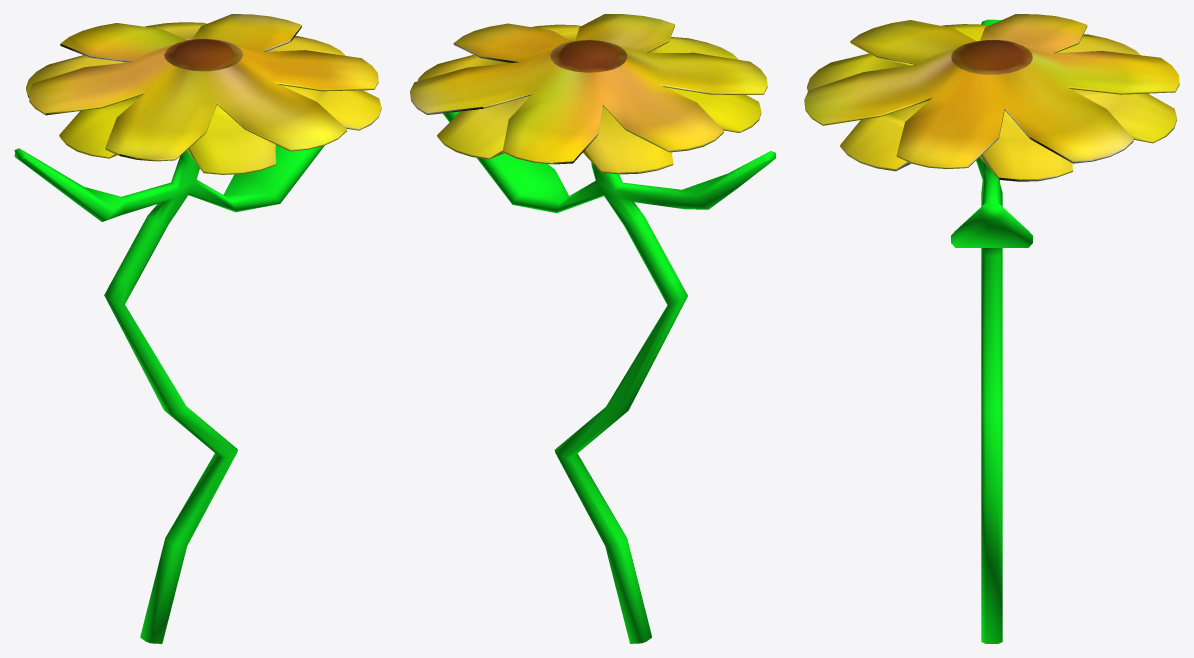
The model's file is Sunflower Moving (2).fbx.
3 renders of one model, left to right at view 1: azimuth 30°, elevation 25°; view 2: azimuth 150°, elevation 25°; view 3: azimuth 270°, elevation 25°, orthographic. The views are drawn at different scales.
Parts seen in each view (by area): view 1: Circle.001, Cube; view 2: Circle.001, Cube; view 3: Circle.001, Cube.
Part boxes in pixels (<box>): Circle.001: <box>26,14,381,174</box>; Cube: <box>14,145,324,643</box>; Circle.001: <box>410,14,767,174</box>; Cube: <box>443,111,775,643</box>; Circle.001: <box>804,14,1179,181</box>; Cube: <box>951,19,1032,643</box>.
Bounding box in the file's own units: 9.72 × 15.9 × 8.81.
